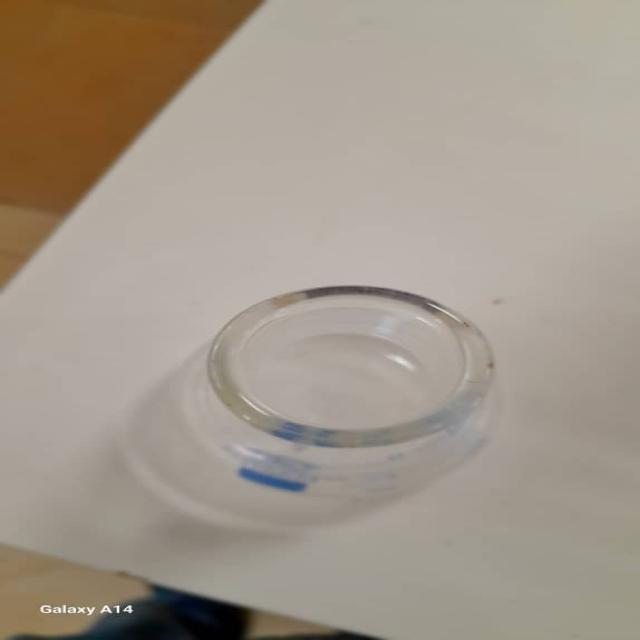Conical Flask: (107, 281, 526, 520)
